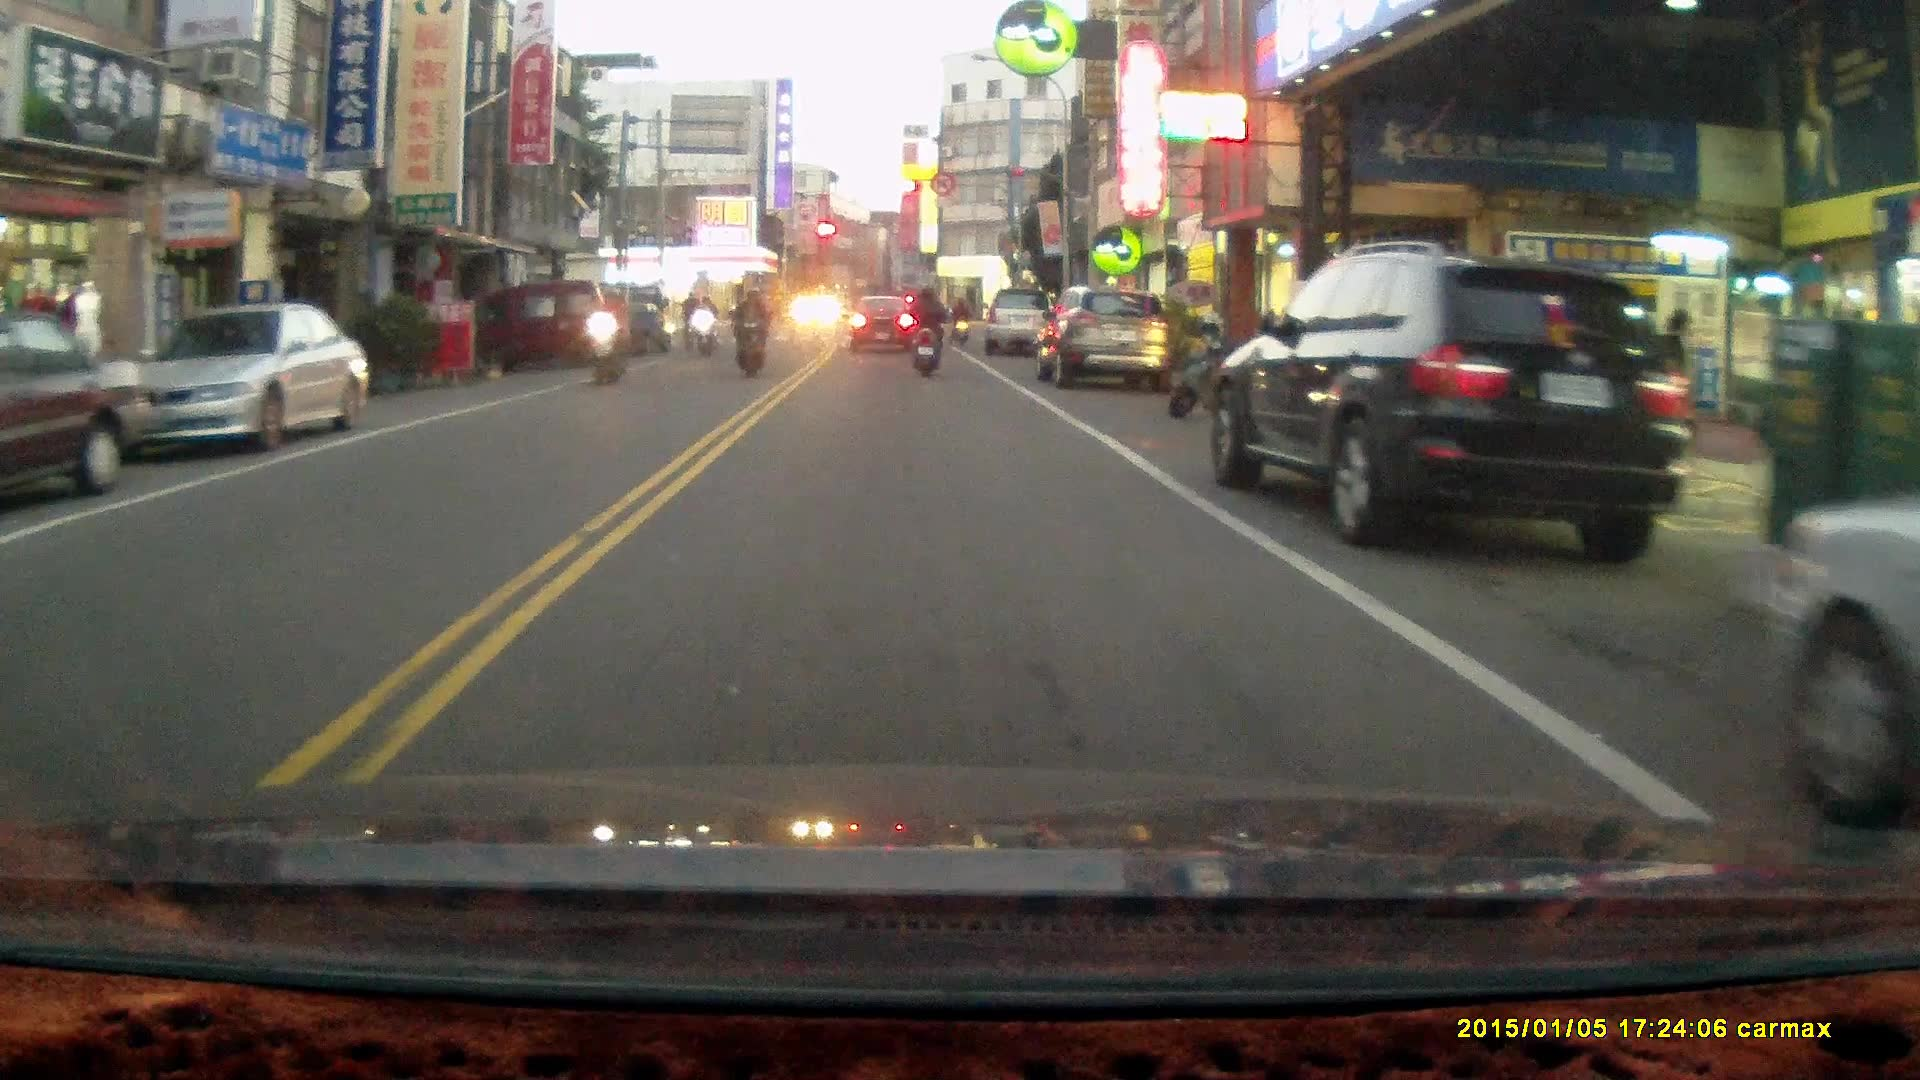pedestrian: (1648, 306, 1693, 453)
rider: (588, 278, 630, 381), (905, 284, 946, 379), (729, 285, 767, 380), (691, 293, 717, 359), (947, 294, 968, 344)
vehicle: (1209, 247, 1687, 567), (1764, 494, 1920, 828), (97, 301, 381, 456), (4, 310, 157, 512), (1035, 288, 1171, 392), (505, 280, 623, 368), (982, 289, 1066, 363)
